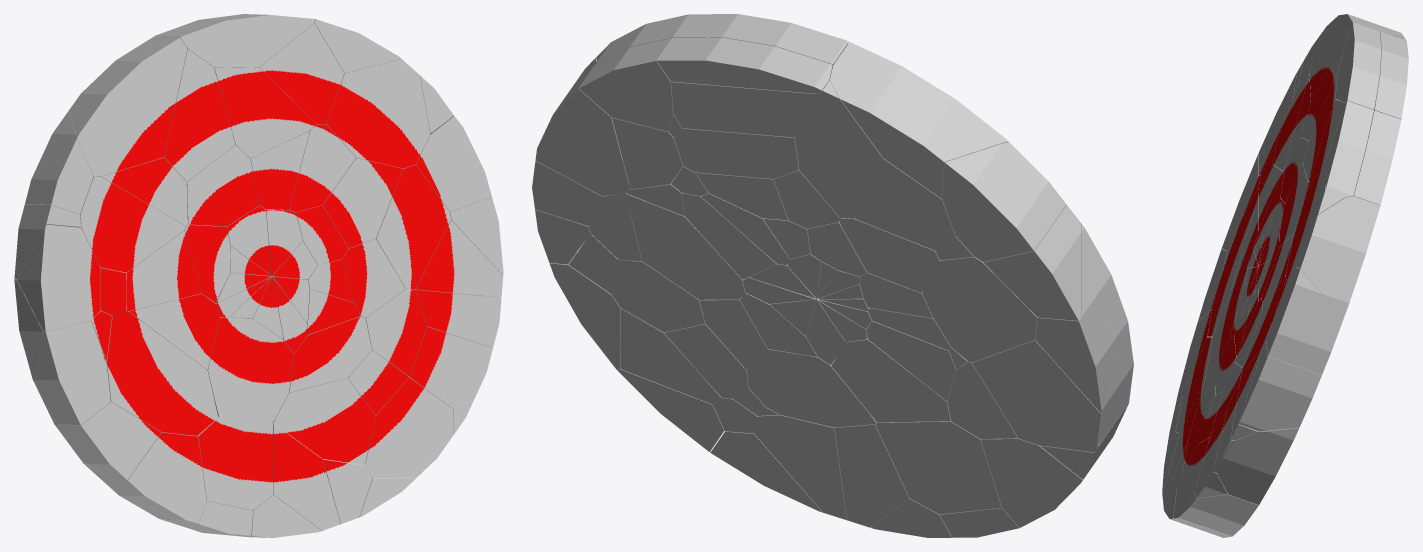
File: brokentarget.fbx
3 renders of one model, left to right at view 1: azimuth 30°, elevation 25°; view 2: azimuth 150°, elevation 25°; view 3: azimuth 270°, elevation 25°, orthographic. The views are drawn at different scales.
Visible parts, largest first — view 1: Circle_cell.089, Circle_cell.094, Circle_cell.075, Circle_cell.020, Circle_cell.043, Circle_cell.007, Circle_cell.029, Circle_cell.009, Circle_cell.044, Circle_cell.091, Circle_cell.042, Circle_cell.028 (+47 smaller); view 2: Circle_cell.089, Circle_cell.035, Circle_cell.023, Circle_cell.029, Circle_cell.067, Circle_cell.065, Circle_cell.016, Circle_cell.073, Circle_cell.025, Circle_cell.052, Circle_cell.046, Circle_cell.041 (+47 smaller); view 3: Circle_cell.073, Circle_cell.086, Circle_cell.012, Circle_cell.074, Circle_cell.019, Circle_cell.033, Circle_cell.008, Circle_cell.065, Circle_cell.040, Circle_cell.089, Circle_cell.075, Circle_cell.094 (+36 smaller).
Boxes of the visible parts, left/top/right/bottom form: Circle_cell.089: left=69, top=37, right=187, bottom=176; Circle_cell.094: left=107, top=311, right=218, bottom=435; Circle_cell.075: left=323, top=59, right=430, bottom=168; Circle_cell.020: left=207, top=317, right=293, bottom=422; Circle_cell.043: left=17, top=224, right=100, bottom=331; Circle_cell.007: left=365, top=377, right=453, bottom=477; Circle_cell.029: left=185, top=416, right=273, bottom=510; Circle_cell.009: left=35, top=321, right=110, bottom=425; Circle_cell.044: left=273, top=378, right=375, bottom=464; Circle_cell.091: left=80, top=176, right=185, bottom=272; Circle_cell.042: left=163, top=48, right=235, bottom=181; Circle_cell.028: left=214, top=67, right=316, bottom=158; Circle_cell.089: left=829, top=42, right=1008, bottom=198; Circle_cell.035: left=942, top=142, right=1066, bottom=261; Circle_cell.023: left=972, top=339, right=1101, bottom=452; Circle_cell.029: left=875, top=419, right=1001, bottom=514; Circle_cell.067: left=922, top=257, right=1037, bottom=362; Circle_cell.065: left=657, top=37, right=832, bottom=93; Circle_cell.016: left=795, top=79, right=883, bottom=218; Circle_cell.073: left=535, top=58, right=629, bottom=195; Circle_cell.025: left=747, top=349, right=876, bottom=427; Circle_cell.052: left=626, top=194, right=745, bottom=299; Circle_cell.046: left=983, top=205, right=1081, bottom=320; Circle_cell.041: left=671, top=81, right=817, bottom=137; Circle_cell.073: left=1296, top=196, right=1380, bottom=317; Circle_cell.086: left=1266, top=267, right=1343, bottom=374; Circle_cell.012: left=1238, top=340, right=1321, bottom=431; Circle_cell.074: left=1217, top=427, right=1299, bottom=504; Circle_cell.019: left=1335, top=22, right=1381, bottom=109; Circle_cell.033: left=1325, top=101, right=1373, bottom=196; Circle_cell.008: left=1353, top=110, right=1401, bottom=205; Circle_cell.065: left=1374, top=31, right=1408, bottom=119; Circle_cell.040: left=1186, top=492, right=1258, bottom=536; Circle_cell.089: left=1309, top=14, right=1403, bottom=101; Circle_cell.075: left=1286, top=162, right=1346, bottom=279; Circle_cell.094: left=1207, top=187, right=1258, bottom=336.
Size of the model in its own units: 223 by 217 by 103.
